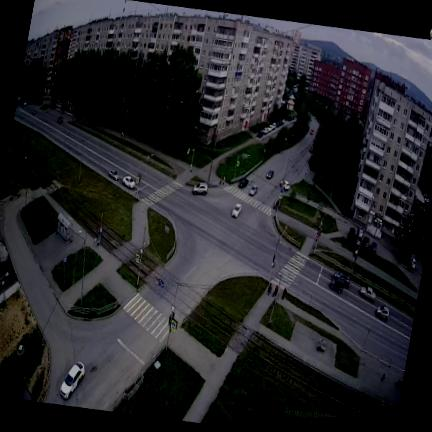bench: (317, 339, 327, 351), (396, 380, 402, 387)
busStop: (57, 213, 72, 242)
busStopSign: (97, 213, 102, 256), (63, 257, 67, 282)
car: (60, 361, 85, 399), (334, 272, 350, 287), (360, 287, 375, 301), (330, 278, 344, 293), (193, 182, 208, 195), (376, 306, 389, 321), (122, 176, 135, 188), (232, 203, 241, 219), (109, 170, 119, 180), (280, 180, 290, 190), (348, 227, 355, 240), (249, 186, 258, 196), (362, 237, 369, 249), (239, 179, 248, 187), (410, 258, 416, 269), (371, 242, 377, 252), (266, 171, 273, 179)
garbageBin: (381, 374, 385, 381)
human: (267, 284, 272, 294), (317, 341, 322, 351), (274, 286, 278, 296), (282, 288, 286, 298), (354, 248, 358, 256), (94, 238, 97, 247), (121, 131, 124, 138), (219, 178, 222, 184), (223, 176, 225, 184), (138, 134, 140, 140)
lightPole: (353, 211, 370, 270), (78, 229, 87, 305), (207, 133, 217, 183), (78, 134, 85, 183)
pedestianCross: (124, 293, 168, 341), (271, 252, 309, 292), (224, 186, 272, 216), (143, 181, 182, 205)
sign: (165, 227, 169, 238), (150, 351, 154, 357)
trafficLight: (269, 229, 286, 280), (136, 154, 153, 198), (166, 304, 177, 349), (234, 153, 248, 179), (314, 218, 324, 252), (136, 249, 143, 286), (187, 148, 195, 175), (276, 191, 283, 218)
truck: (356, 228, 363, 245)
